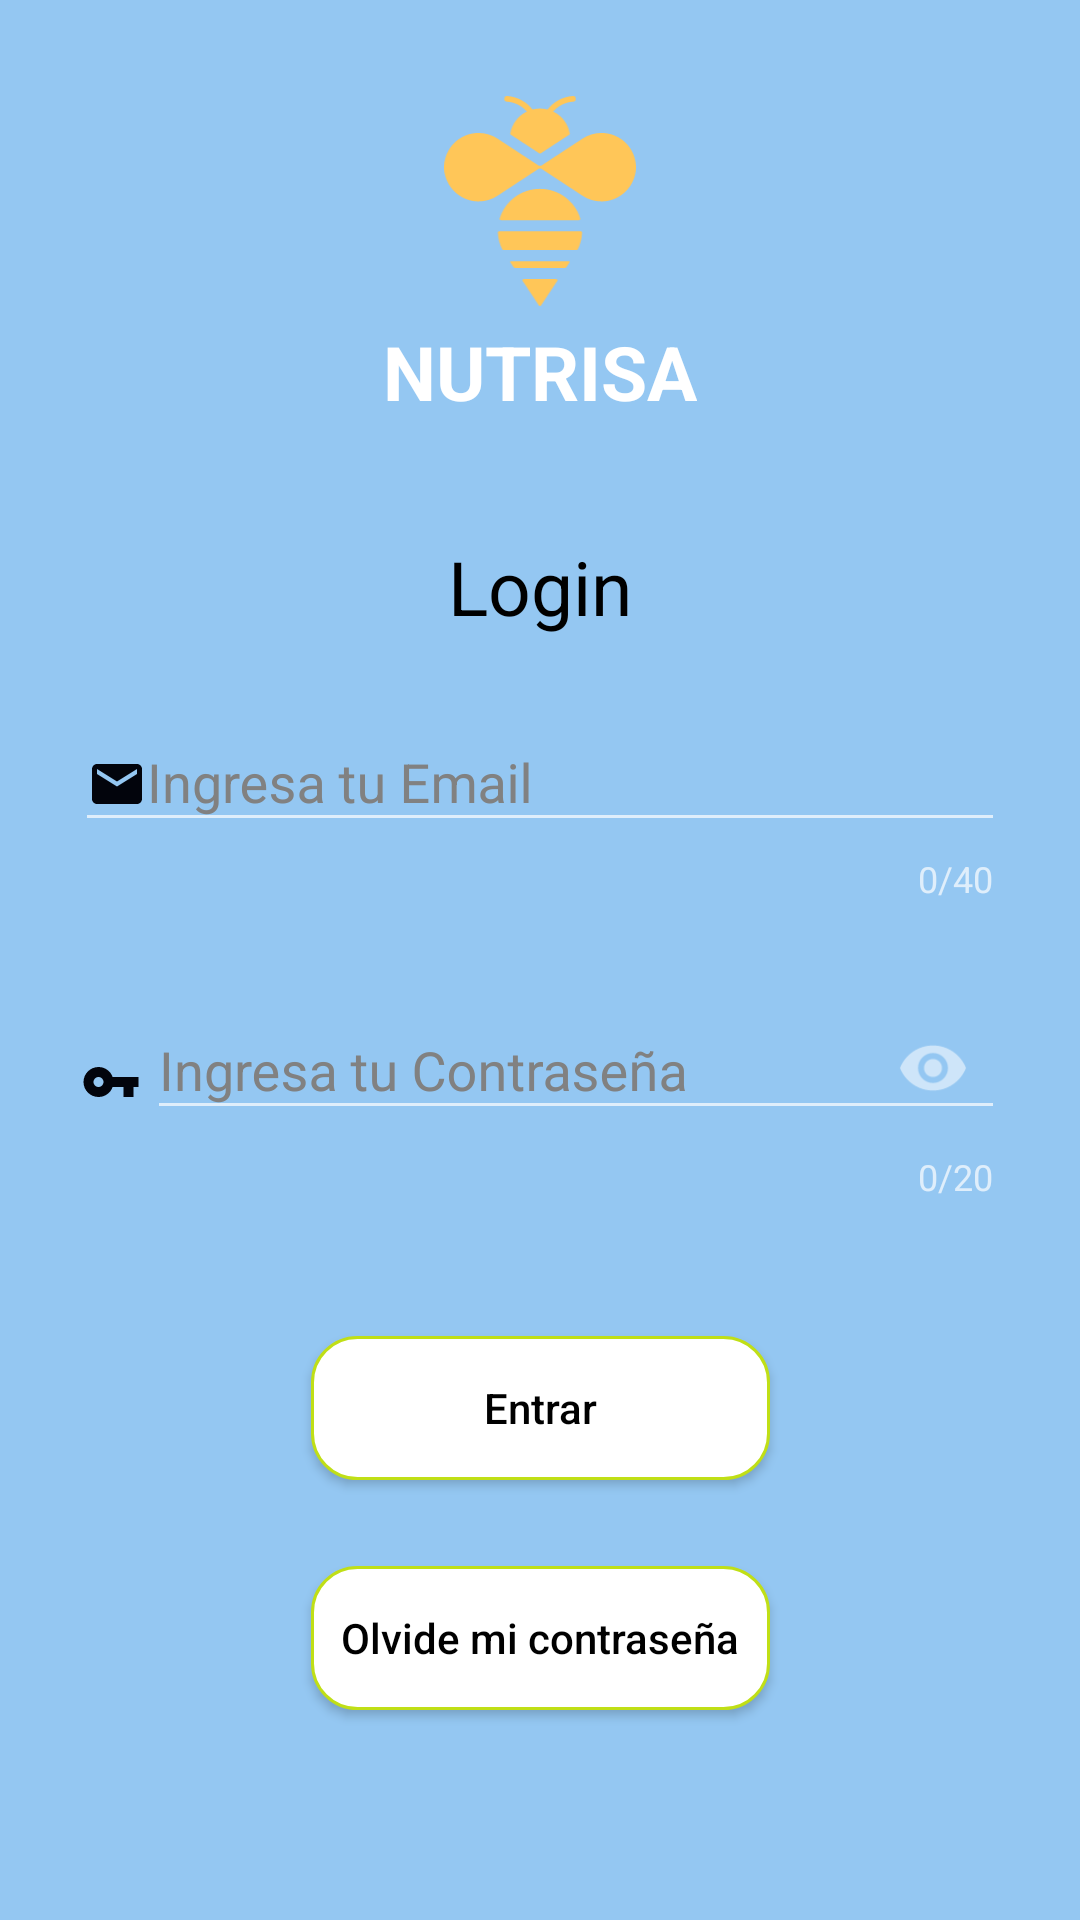

Locate icon controls on the screen. Image size 1080 x 1920, boxes as [left=x1, top=y1, right=x2, bottom=y2].
login key: [left=83, top=1067, right=139, bottom=1097]
